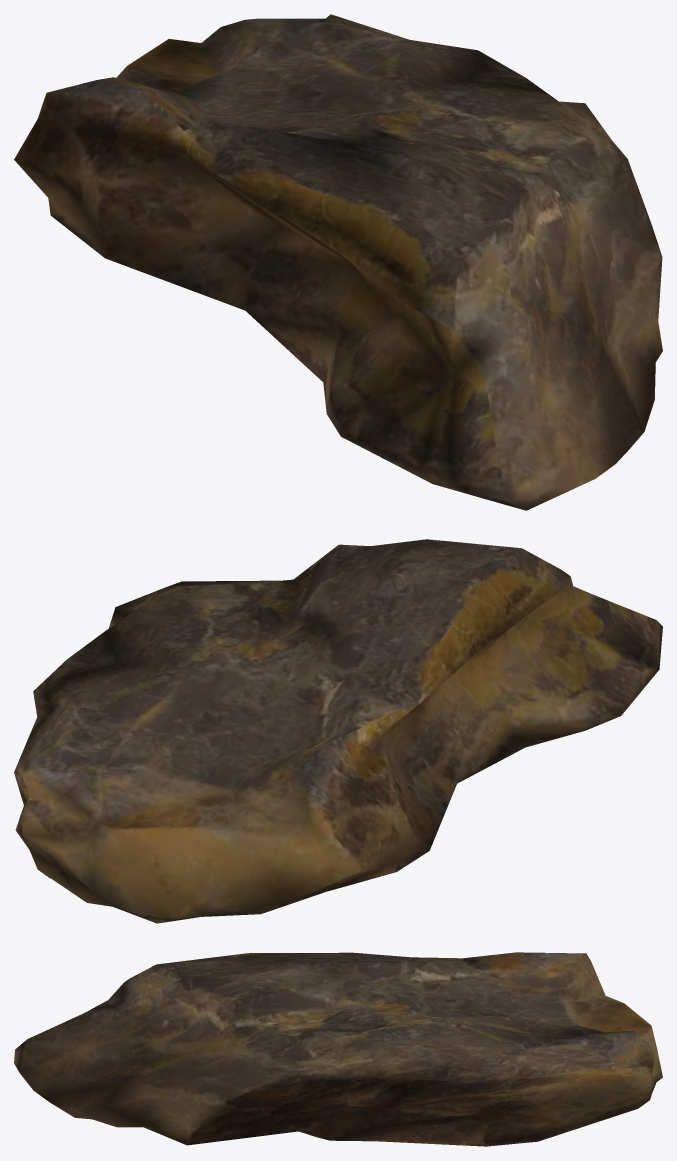
The model's file is rock.glb.
The picture shows the model from 3 angles, top to bottom: view 1: azimuth 30°, elevation 25°; view 2: azimuth 150°, elevation 25°; view 3: azimuth 270°, elevation 25°; orthographic projection. The views are drawn at different scales.
Parts seen in each view (by area): view 1: rock_09_LOD0; view 2: rock_09_LOD0; view 3: rock_09_LOD0.
Boxes of the visible parts, bbox=[...] form: rock_09_LOD0: bbox=[14, 14, 662, 510]; rock_09_LOD0: bbox=[14, 539, 662, 923]; rock_09_LOD0: bbox=[14, 952, 662, 1146].
Bounding box in the file's own units: 0.0738 × 0.0326 × 0.1442.
1 material, 1 textured.
